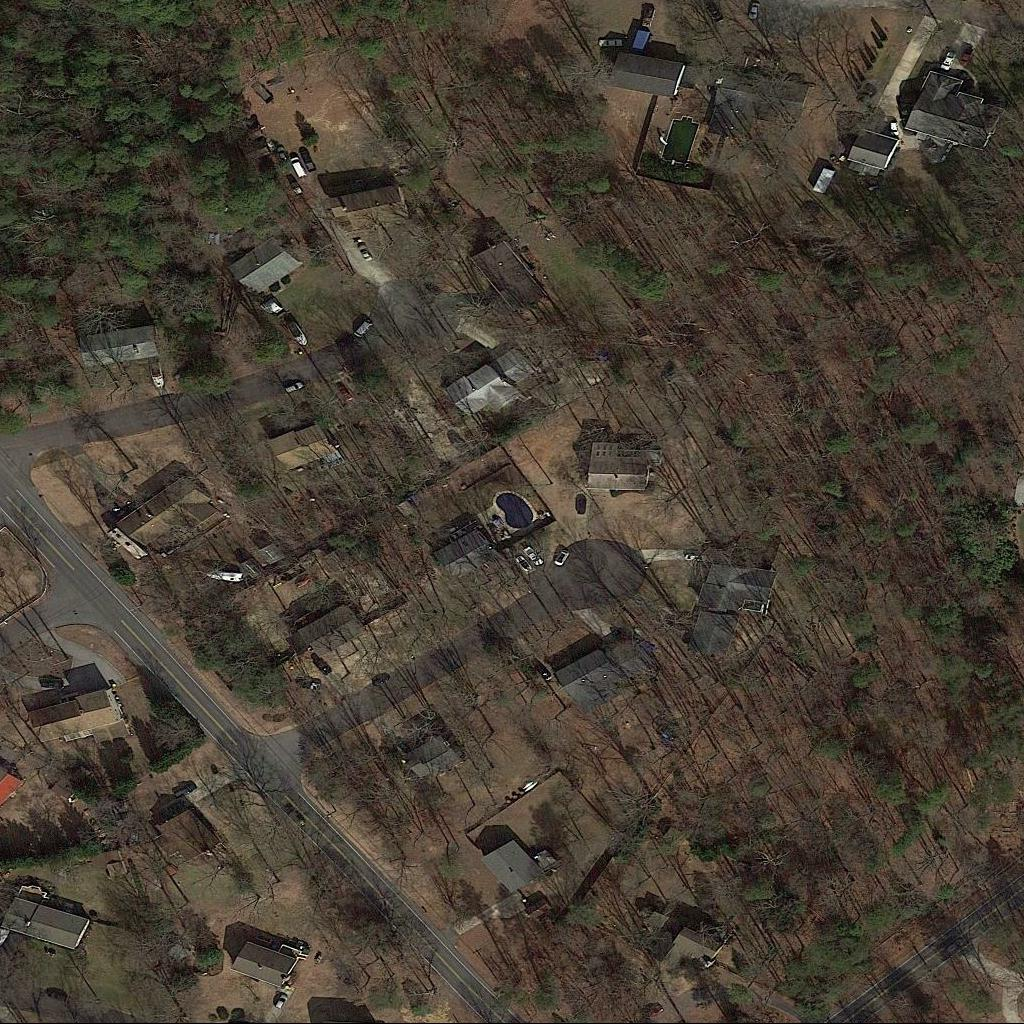ship: (285, 319, 310, 349), (204, 567, 243, 583), (148, 360, 166, 391)
